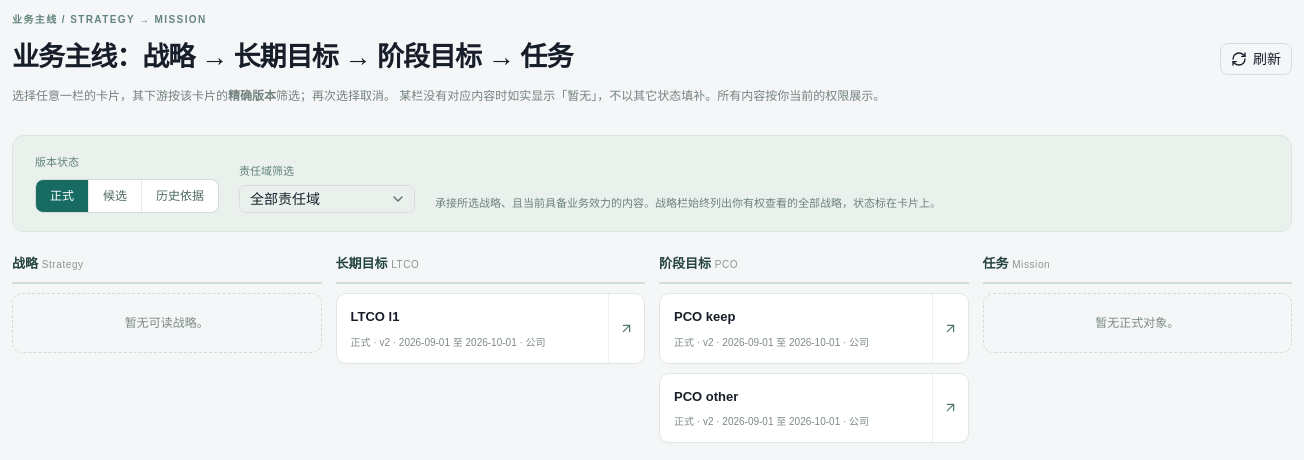
it: narrows the PCO lane to the selected LTCO's exact revision
This screenshot has width=1304, height=460.
Expected: the text "PCO other" is shown, top-left (674, 389), bottom-right (738, 404)
Click the button with test id "lane-ltco-l1". click: (375,317)
box: top-left (336, 294), bottom-right (606, 362)
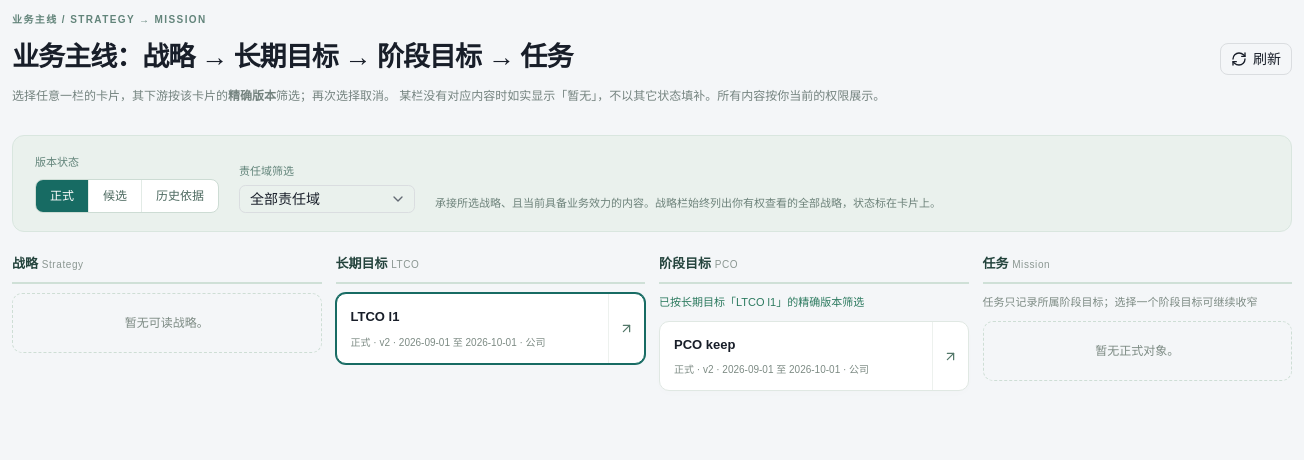
Expected: the text "PCO keep" is shown, top-left (674, 337), bottom-right (735, 352)
Now the button "PCO other" is gone
Now the text "已按长期目标「LTCO l1」的精确版本筛选" is shown, box top-left (659, 296), bottom-right (864, 308)
